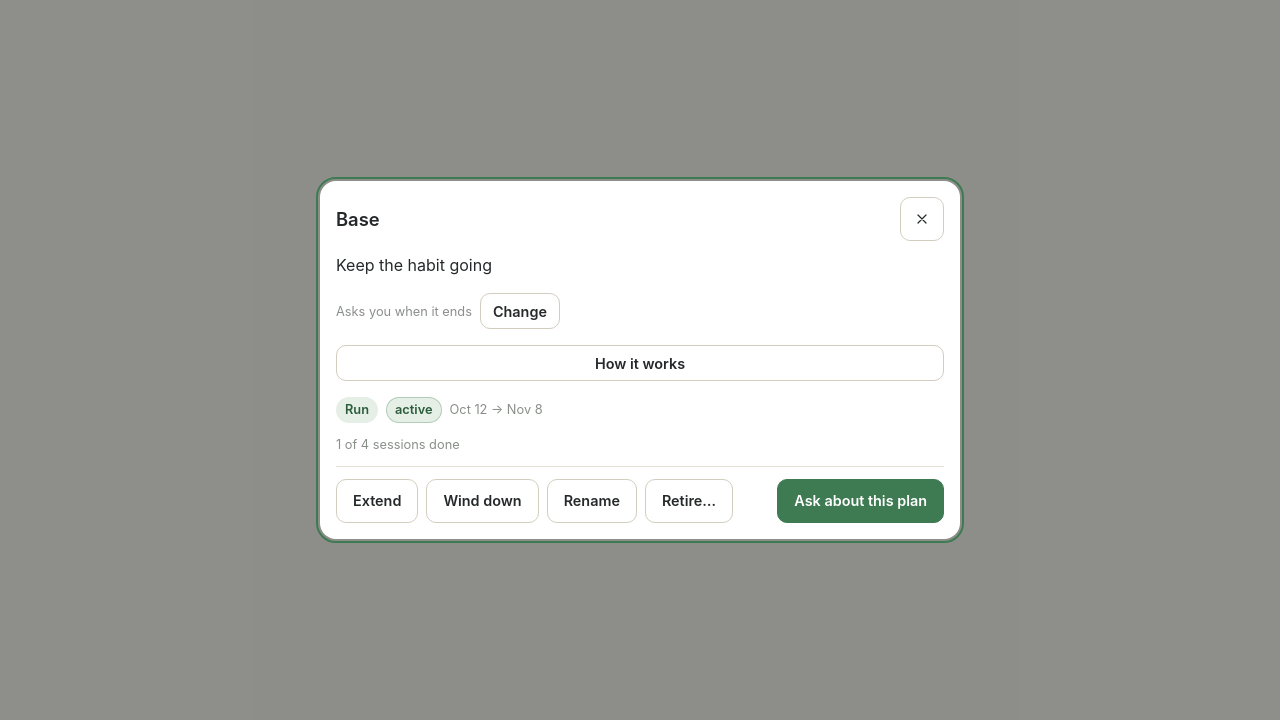
the plan sheet's words › keeps the brief behind a tap: hidden until opened, hidden again when closed
Expected: the text "Ten sessions, then easier." is not shown
Step 1. Click the button "How it works" → (640, 363), box [336,345,944,381]
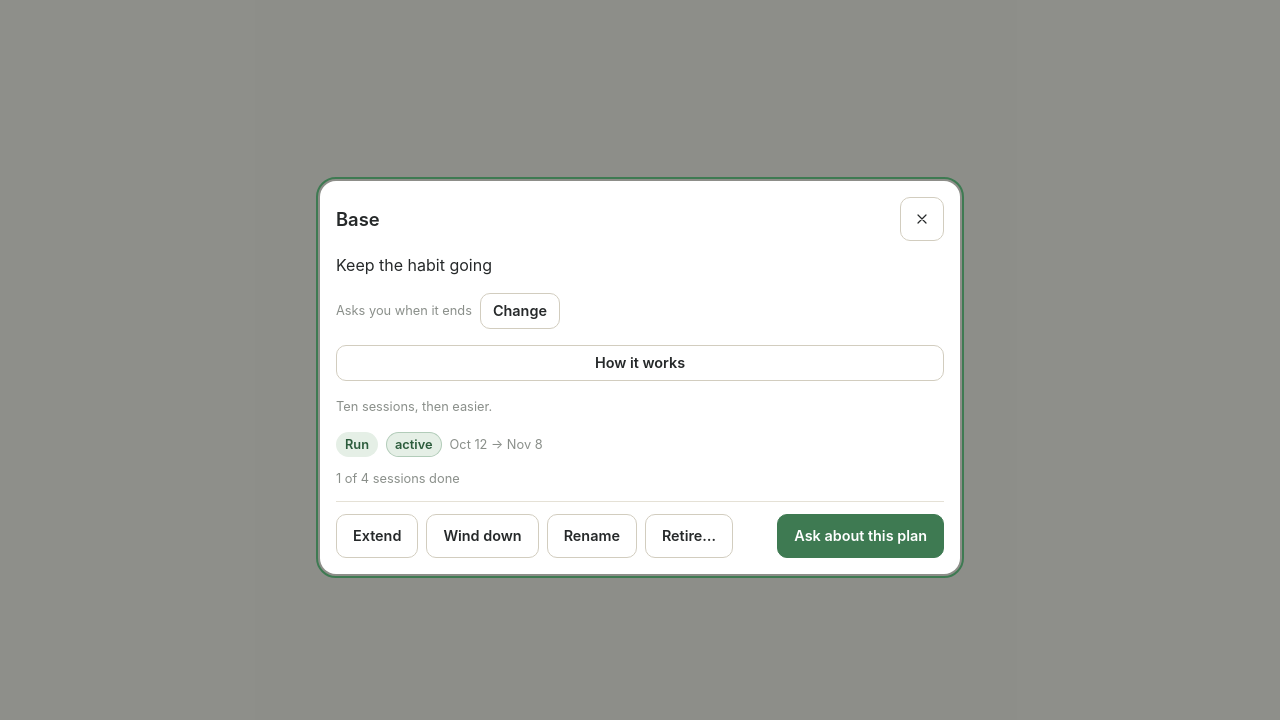
Now the button "How it works" is expanded
Now the text "Ten sessions, then easier." is shown, box [336,399,492,414]
Step 2. Click the button "How it works" → (640, 363), box [336,345,944,381]
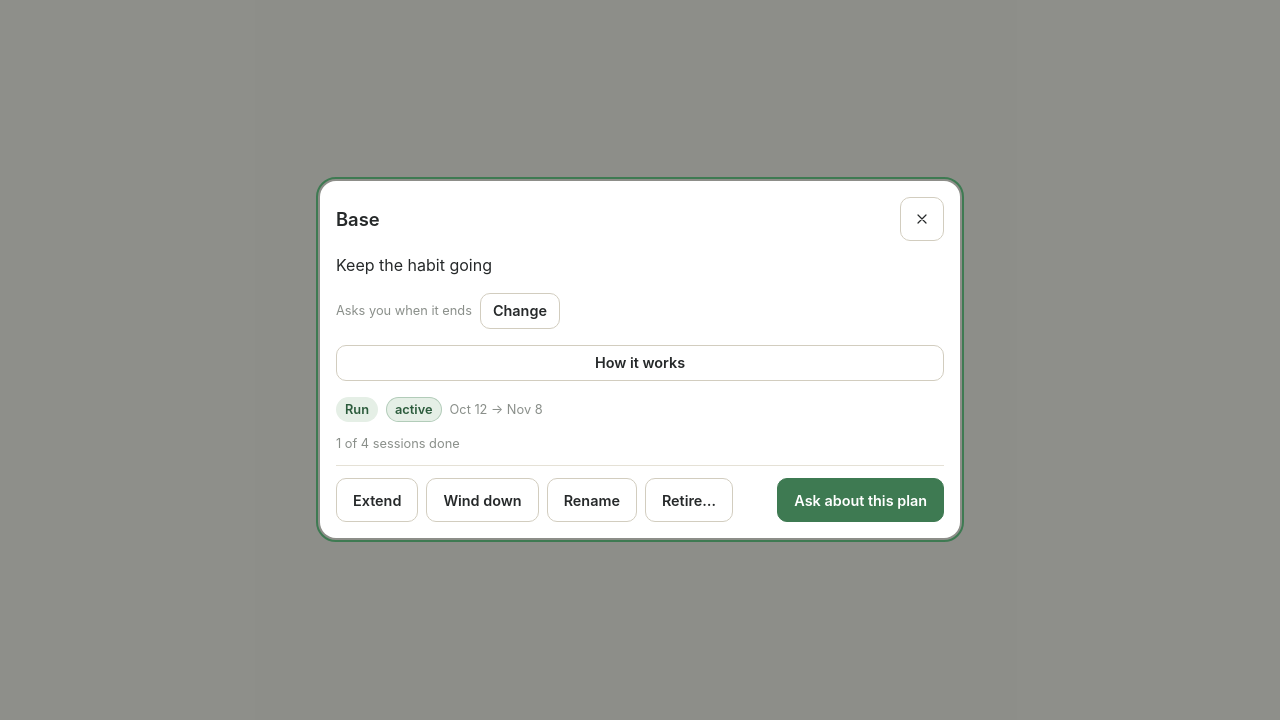
Now the text "Ten sessions, then easier." is gone
